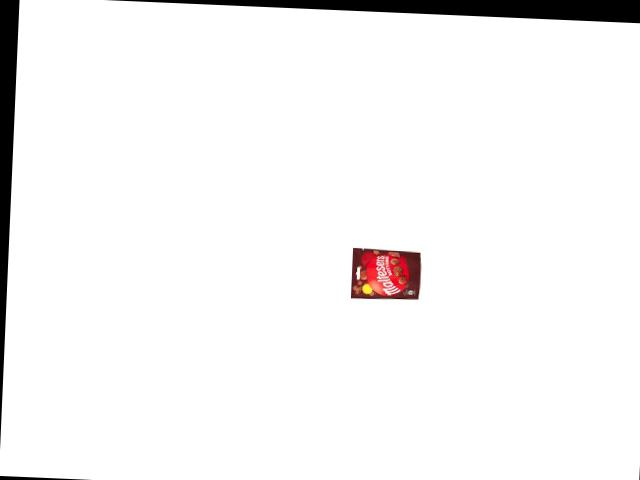chocolate: (349, 246, 423, 301)
